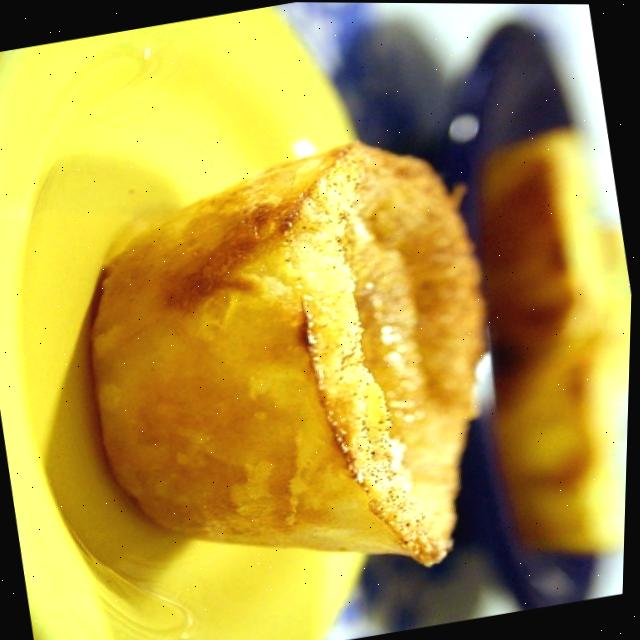炸货点心: (44, 103, 580, 609)
蛋糕甜品: (44, 103, 580, 609)
